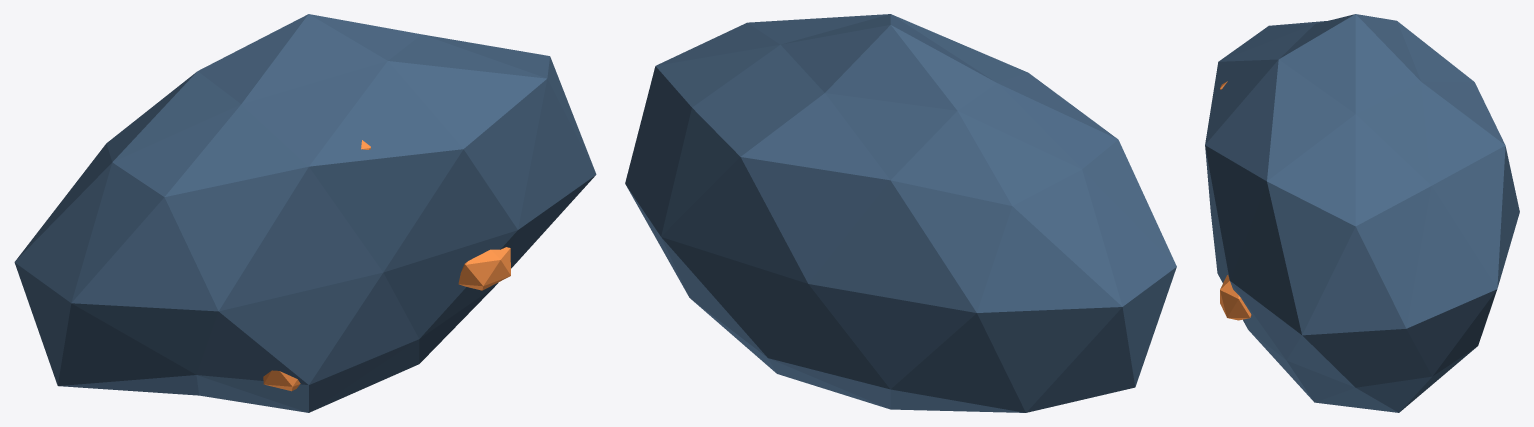
Rendered from asteroid_2.glb.
3 views of the same model, side by side, from view 1: azimuth 30°, elevation 25°; view 2: azimuth 150°, elevation 25°; view 3: azimuth 270°, elevation 25° (orthographic). The views are drawn at different scales.
Visible parts, largest first — view 1: Faceted rock.002, Mineral vein.010, Mineral vein.009; view 2: Faceted rock.002; view 3: Faceted rock.002, Mineral vein.010.
Boxes of the visible parts, x1,y1,x2,y2 form: Faceted rock.002: (14, 14, 596, 412); Mineral vein.010: (458, 247, 510, 290); Mineral vein.009: (263, 370, 300, 391); Faceted rock.002: (625, 14, 1176, 412); Faceted rock.002: (1205, 14, 1519, 412); Mineral vein.010: (1220, 275, 1251, 320).
Size of the model in its own units: 2.67 by 1.87 by 1.43.
